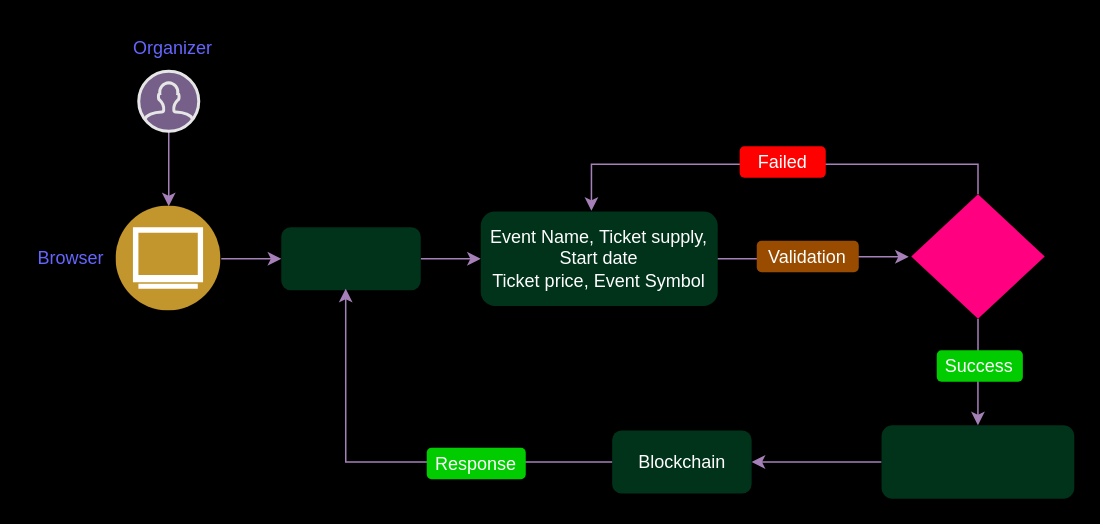
This 1100x524 diagram has some shape labels left out. Each missing label, with the box of its shape:
Create Event: (280, 226, 420, 290)
Event Validation: (910, 194, 1044, 318)
SMART CONTRACT: (881, 424, 1074, 498)
